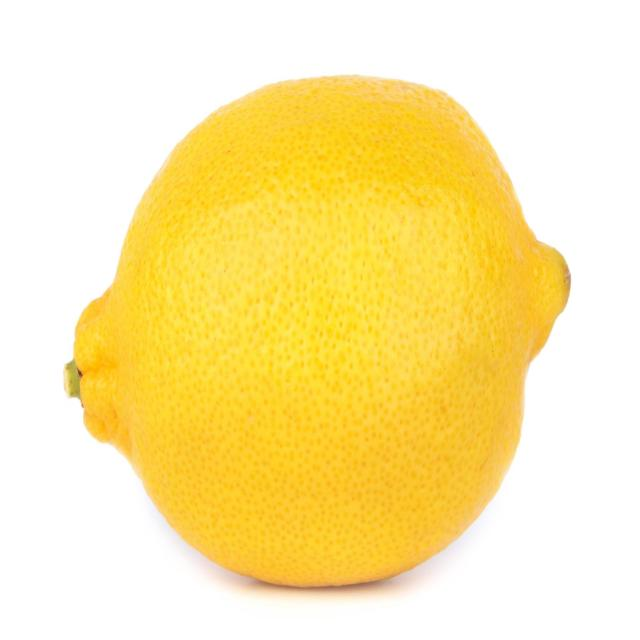lemon: (58, 68, 574, 603)
